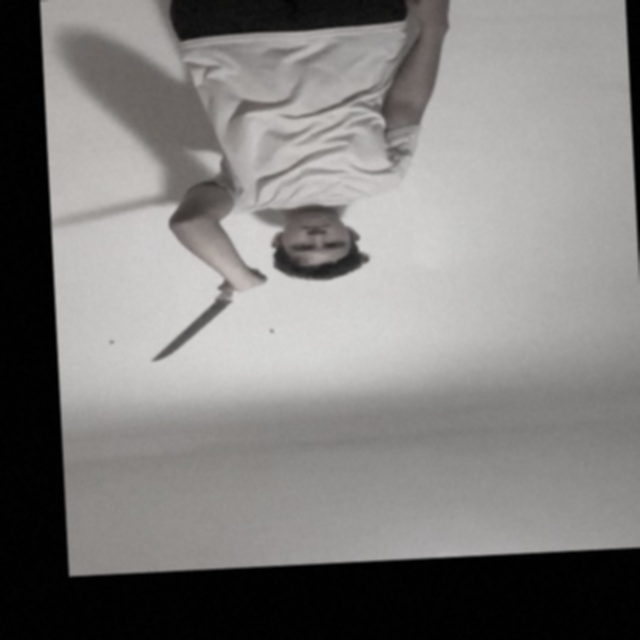Sharp-Object: (153, 300, 233, 361)
